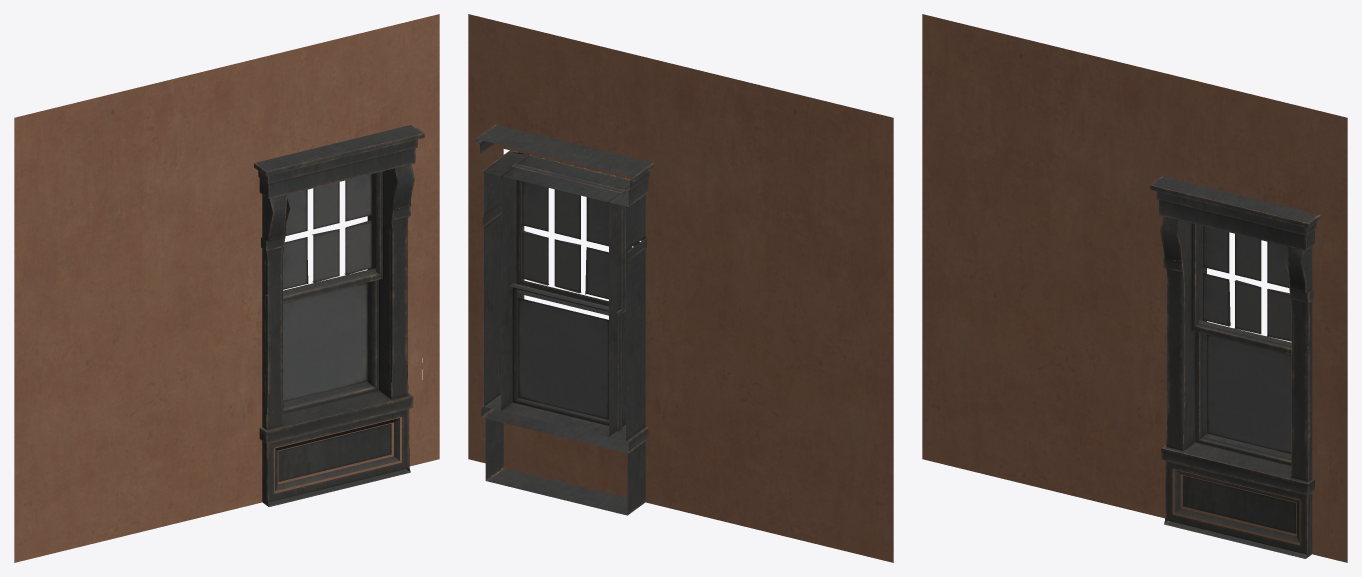
File: bay_window_c_lo.gltf
3 views of the same model, side by side, from view 1: azimuth 30°, elevation 25°; view 2: azimuth 150°, elevation 25°; view 3: azimuth 330°, elevation 25° (orthographic).
Parts seen in each view (by area): view 1: bay_window_c_lo; view 2: bay_window_c_lo; view 3: bay_window_c_lo.
Boxes of the visible parts, x1,y1,x2,y2 form: bay_window_c_lo: (14, 14, 439, 562); bay_window_c_lo: (468, 14, 893, 562); bay_window_c_lo: (922, 14, 1347, 562).
Size of the model in its own units: 3 by 3 by 0.3893.
Materials: 3 (3 with a texture image).
